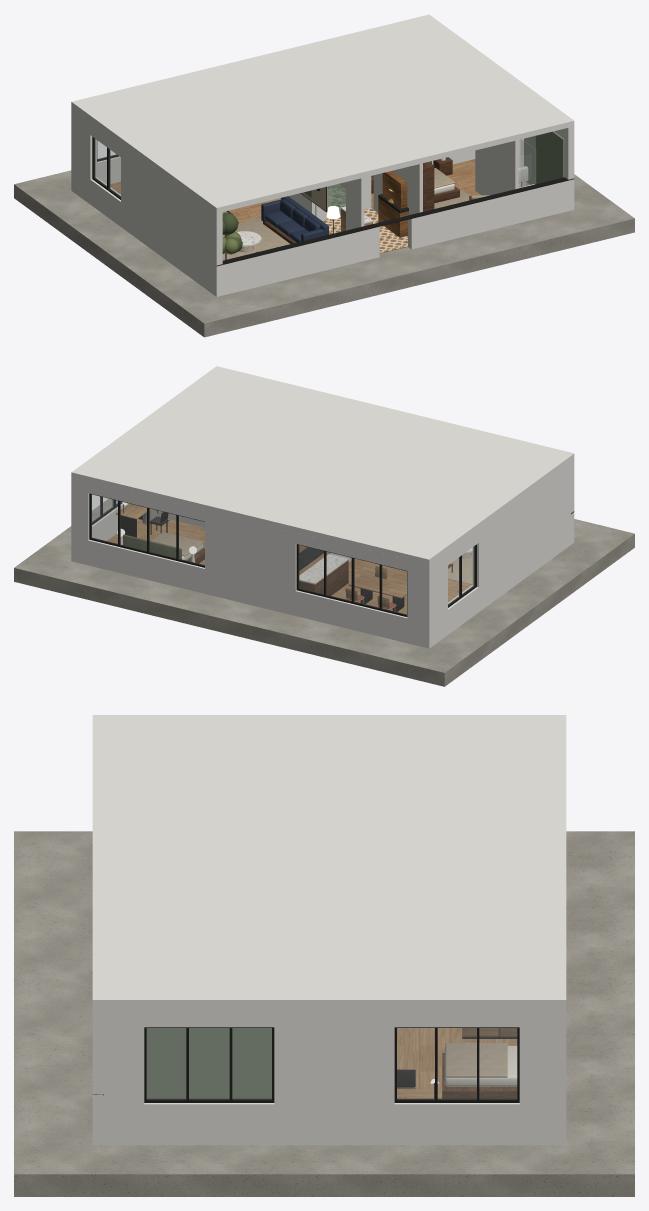
File: modern-flat.glb
3 views of the same model, one above another, from view 1: azimuth 30°, elevation 25°; view 2: azimuth 150°, elevation 25°; view 3: azimuth 270°, elevation 25° (orthographic). The views are drawn at different scales.
Parts seen in each view (by area): view 1: Up_MF_Ceiling, MF_Walls, MF_Base, MF_Floors, MF_Sofa, MF_TeakPanel, MF_Pooja, MF_Glass, MF_Rug, MF_MasterBed, MF_Shower, MF_Plant_A (+2 smaller); view 2: Up_MF_Ceiling, MF_Walls, MF_Base, MF_Glass, MF_Frames, MF_Floors, MF_Bed2, MF_Sideboard, MF_DiningTable, MF_Desk, MF_KitchenSide, MF_Rug; view 3: Up_MF_Ceiling, MF_Base, MF_Walls, MF_Glass, MF_TeakPanel, MF_Bed2, MF_Frames, MF_Floors.
Boxes of the visible parts, <box> form: Up_MF_Ceiling: <box>71,14,574,213</box>; MF_Walls: <box>71,107,574,296</box>; MF_Base: <box>14,170,634,337</box>; MF_Floors: <box>110,159,530,253</box>; MF_Sofa: <box>261,196,328,243</box>; MF_TeakPanel: <box>96,131,564,195</box>; MF_Pooja: <box>378,171,408,237</box>; MF_Glass: <box>94,138,120,196</box>; MF_Rug: <box>222,217,290,260</box>; MF_MasterBed: <box>371,157,459,203</box>; MF_Shower: <box>520,136,535,187</box>; MF_Plant_A: <box>222,212,242,259</box>; Up_MF_Ceiling: <box>71,366,574,564</box>; MF_Walls: <box>71,459,574,648</box>; MF_Base: <box>14,498,634,686</box>; MF_Glass: <box>91,494,474,614</box>; MF_Frames: <box>89,493,476,616</box>; MF_Floors: <box>107,518,471,614</box>; MF_Bed2: <box>117,528,204,563</box>; MF_Sideboard: <box>299,554,348,595</box>; MF_DiningTable: <box>348,574,406,611</box>; MF_Desk: <box>116,502,157,537</box>; MF_KitchenSide: <box>299,545,327,575</box>; MF_Rug: <box>448,552,472,584</box>; Up_MF_Ceiling: <box>92,715,566,1008</box>; MF_Base: <box>14,831,634,1196</box>; MF_Walls: <box>92,1009,566,1145</box>; MF_Glass: <box>147,1028,516,1099</box>; MF_TeakPanel: <box>146,1028,271,1098</box>; MF_Bed2: <box>442,1043,517,1098</box>; MF_Frames: <box>144,1027,519,1102</box>; MF_Floors: <box>397,1028,517,1088</box>.
Bounding box in the file's own units: 16.2 × 3.7 × 12.4.
38 materials, 12 textured.
